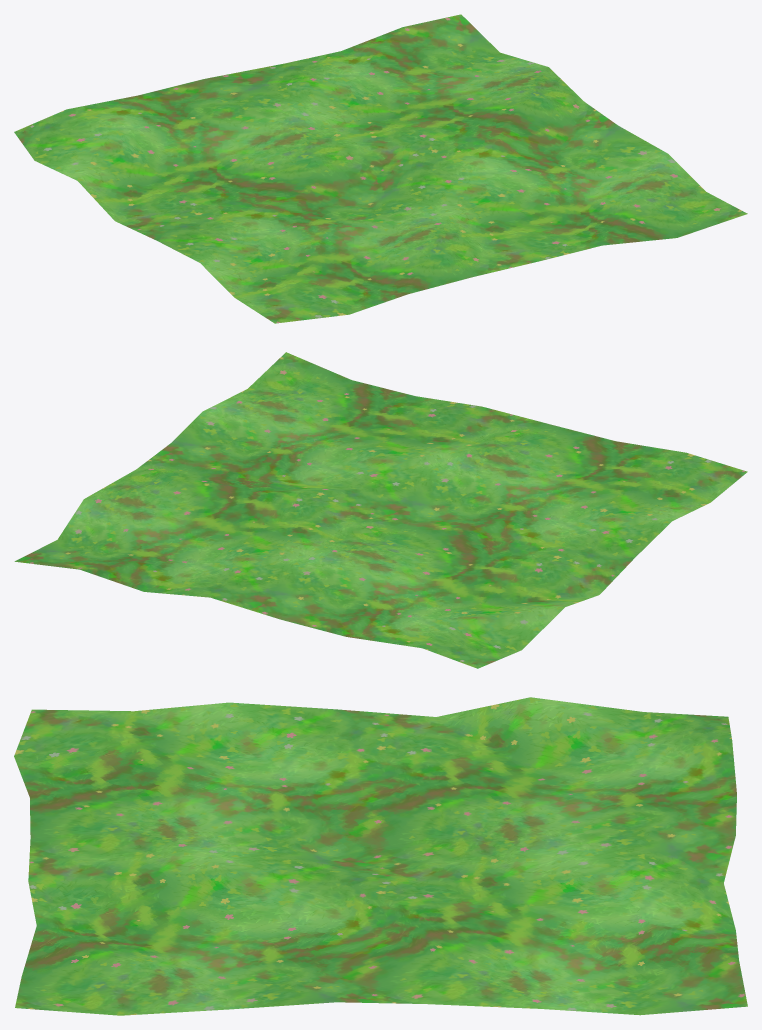
Rendered from grass_plane.glb.
3 views of the same model, one above another, from view 1: azimuth 30°, elevation 25°; view 2: azimuth 150°, elevation 25°; view 3: azimuth 270°, elevation 25° (orthographic). The views are drawn at different scales.
Parts seen in each view (by area): view 1: Plane; view 2: Plane; view 3: Plane.
Part boxes in pixels (bbox=[...]): Plane: bbox=[14, 14, 747, 323]; Plane: bbox=[14, 352, 747, 668]; Plane: bbox=[14, 697, 747, 1015].
Size of the model in its own units: 10.22 by 0.3628 by 10.38.
1 material, 1 textured.
